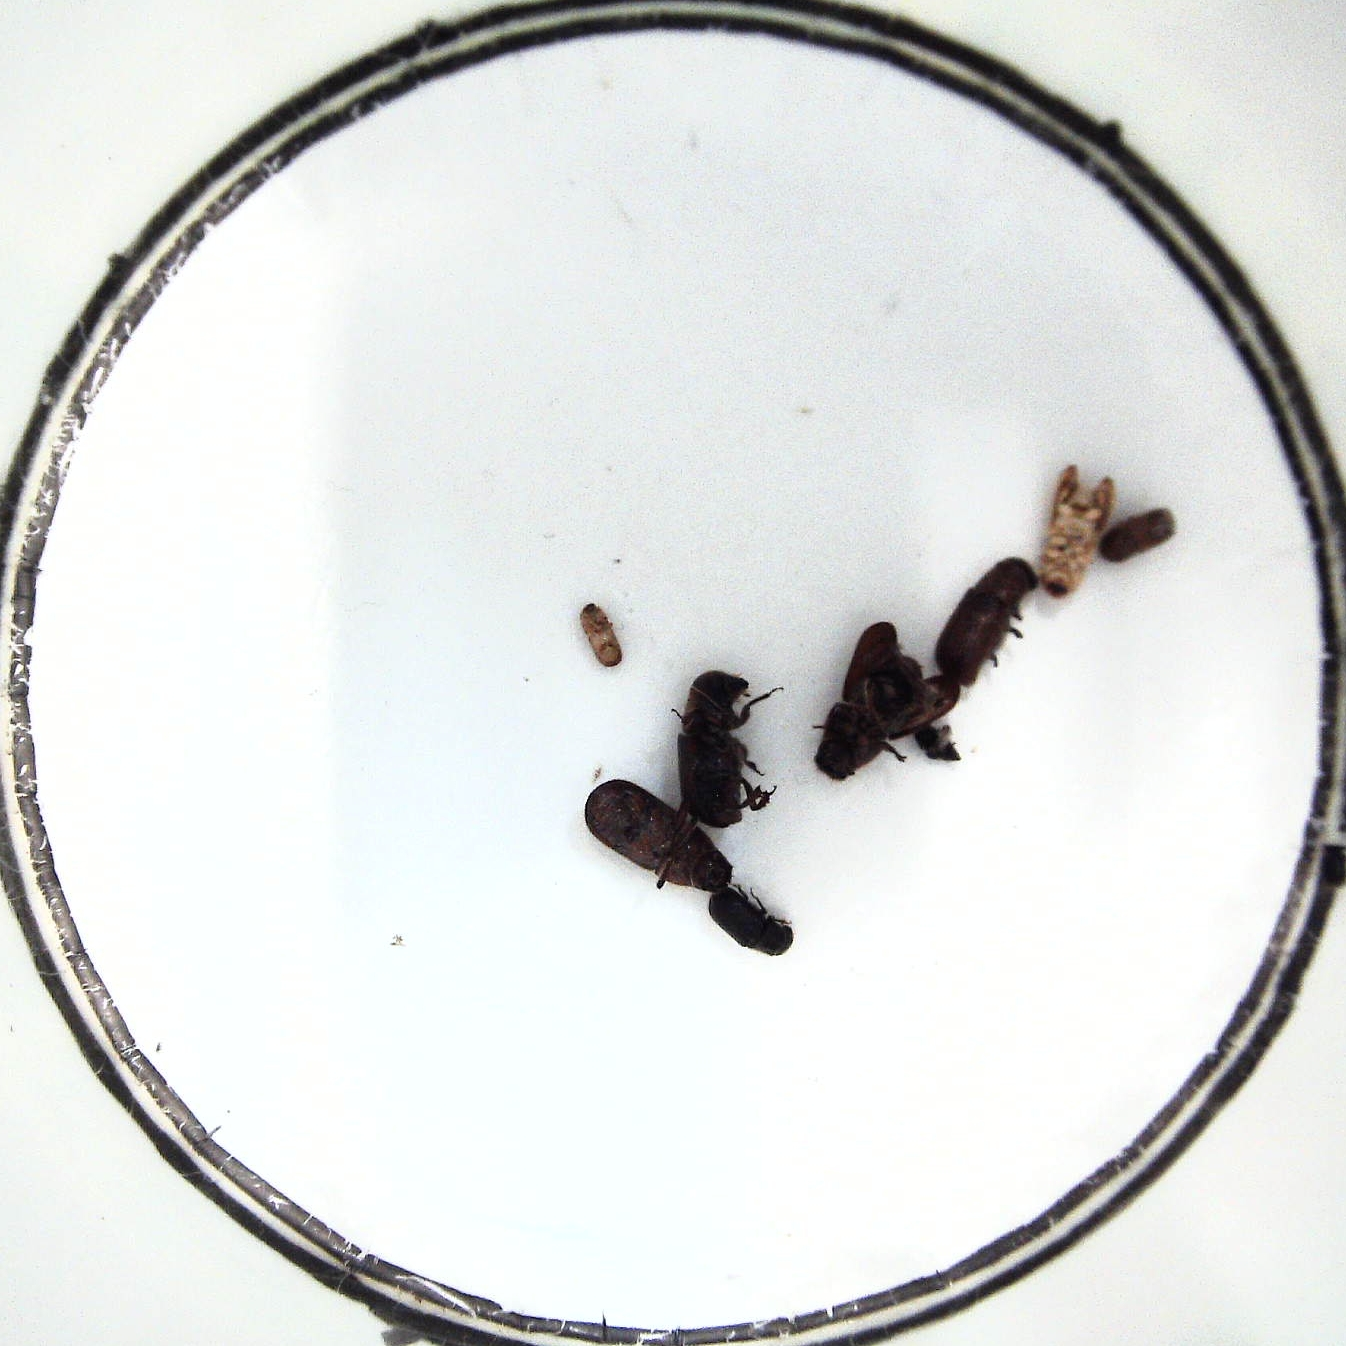Boerner: (1035, 462, 1112, 600)
Leconte: (812, 621, 943, 781), (579, 778, 736, 892), (675, 672, 777, 831), (938, 555, 1042, 683)
Linnaeus: (1092, 507, 1182, 568)
acuminatus: (571, 603, 626, 668)
armandi: (708, 885, 799, 960)
coleoptera: (912, 719, 961, 765)
